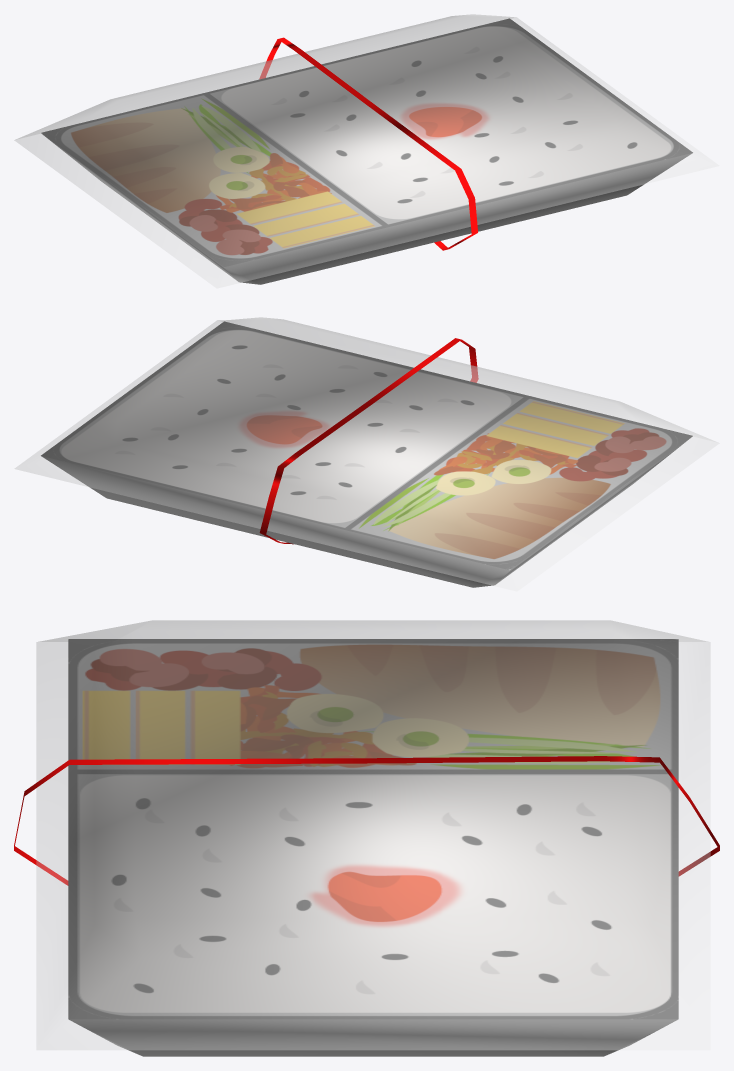
File: bento.fbx
The picture shows the model from 3 angles, top to bottom: view 1: azimuth 30°, elevation 25°; view 2: azimuth 150°, elevation 25°; view 3: azimuth 270°, elevation 25°; orthographic projection. The views are drawn at different scales.
Parts seen in each view (by area): view 1: bento_futa.002, bento.002, gomu.002; view 2: bento_futa.002, bento.002, gomu.002; view 3: bento_futa.002, bento.002, gomu.002.
Part boxes in pixels (x1,y1,x2,y2): bento_futa.002: (14, 14, 719, 288); bento.002: (41, 18, 692, 284); gomu.002: (259, 37, 477, 250); bento_futa.002: (14, 317, 719, 591); bento.002: (41, 321, 692, 587); gomu.002: (259, 338, 478, 544); bento_futa.002: (36, 620, 710, 1049); bento.002: (68, 639, 678, 1056); gomu.002: (14, 756, 719, 885).
Bounding box in the file's own units: 366 × 63.46 × 267.
